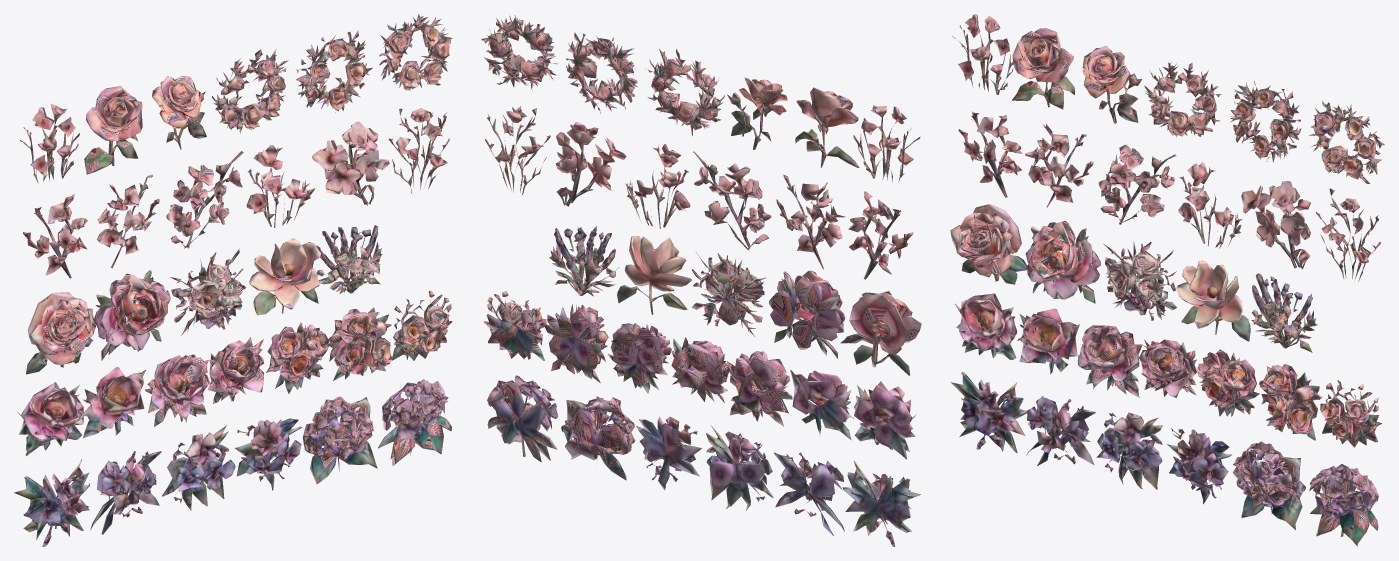
3 renders of one model, left to right at view 1: azimuth 30°, elevation 25°; view 2: azimuth 150°, elevation 25°; view 3: azimuth 330°, elevation 25°, orthographic.
Visible parts, largest first — view 1: Mesh 30, Mesh 17, Mesh 43, Mesh 51, Mesh 8, Mesh 40, Mesh 45, Mesh 48, Mesh 28, Mesh 10, Mesh 27, Mesh 29 (+17 smaller); view 2: Mesh 30, Mesh 17, Mesh 43, Mesh 51, Mesh 8, Mesh 28, Mesh 48, Mesh 27, Mesh 1, Mesh 44, Mesh 29, Mesh 40 (+17 smaller); view 3: Mesh 30, Mesh 17, Mesh 43, Mesh 8, Mesh 51, Mesh 40, Mesh 10, Mesh 27, Mesh 28, Mesh 1, Mesh 56, Mesh 48 (+17 smaller).
Boxes of the visible parts, left/top/right/bottom form: Mesh 30: left=145, top=337, right=263, bottom=426; Mesh 17: left=94, top=270, right=170, bottom=360; Mesh 43: left=303, top=396, right=377, bottom=484; Mesh 51: left=378, top=379, right=451, bottom=465; Mesh 8: left=26, top=292, right=95, bottom=374; Mesh 40: left=249, top=238, right=320, bottom=315; Mesh 45: left=312, top=121, right=389, bottom=205; Mesh 48: left=328, top=307, right=391, bottom=380; Mesh 28: left=162, top=425, right=235, bottom=510; Mesh 10: left=84, top=86, right=142, bottom=174; Mesh 27: left=169, top=249, right=246, bottom=335; Mesh 29: left=212, top=49, right=288, bottom=133; Mesh 30: left=671, top=337, right=792, bottom=426; Mesh 17: left=769, top=270, right=845, bottom=358; Mesh 43: left=561, top=396, right=635, bottom=480; Mesh 51: left=487, top=375, right=557, bottom=462; Mesh 8: left=840, top=291, right=921, bottom=375; Mesh 28: left=706, top=425, right=773, bottom=510; Mesh 48: left=544, top=304, right=608, bottom=382; Mesh 27: left=692, top=252, right=766, bottom=336; Mesh 1: left=842, top=461, right=920, bottom=546; Mesh 44: left=566, top=32, right=637, bottom=113; Mesh 29: left=645, top=49, right=724, bottom=135; Mesh 40: left=617, top=236, right=691, bottom=314; Mesh 30: left=1077, top=325, right=1196, bottom=397; Mesh 17: left=1025, top=221, right=1100, bottom=303; Mesh 43: left=1233, top=441, right=1305, bottom=529; Mesh 8: left=950, top=204, right=1027, bottom=284; Mesh 51: left=1309, top=464, right=1378, bottom=546; Mesh 40: left=1176, top=260, right=1250, bottom=341; Mesh 10: left=1012, top=28, right=1074, bottom=109; Mesh 27: left=1103, top=241, right=1176, bottom=320; Mesh 28: left=1096, top=412, right=1163, bottom=489; Mesh 1: left=951, top=372, right=1027, bottom=452; Mesh 56: left=1309, top=100, right=1384, bottom=183; Mesh 48: left=1259, top=364, right=1322, bottom=440.
Size of the model in its own units: 1.91 by 1.86 by 0.174.
Materials: 29 (29 with a texture image).
